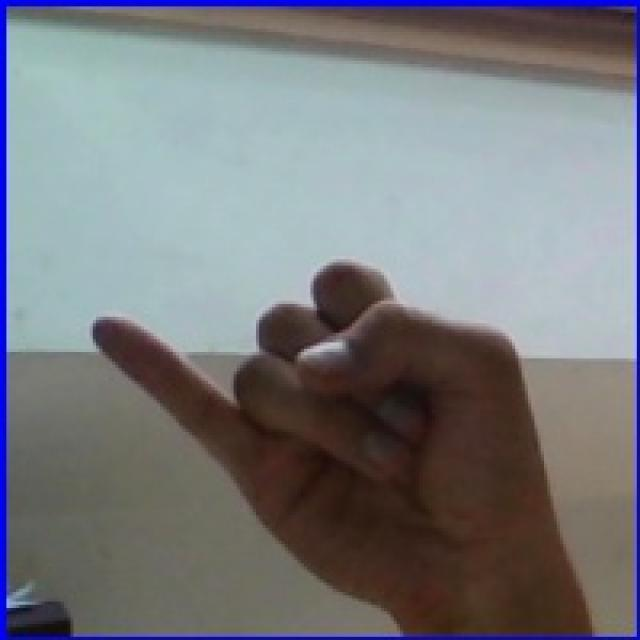J: (54, 223, 603, 632)
